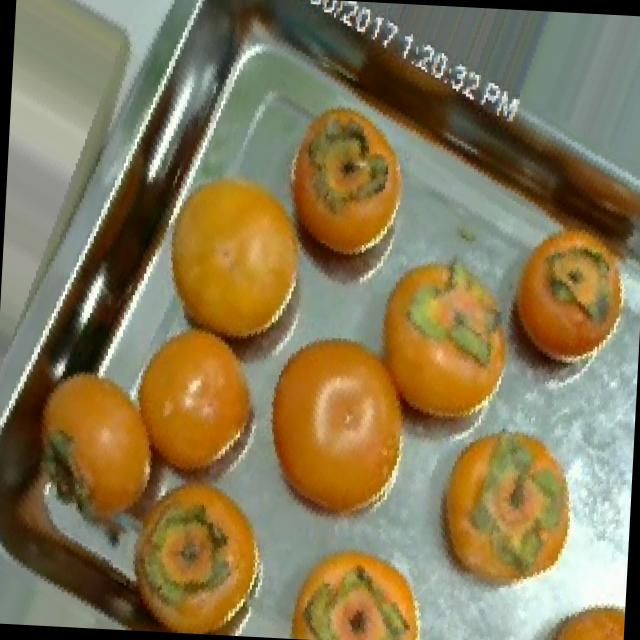Fruit: (238, 312, 434, 548), (149, 145, 333, 380), (419, 403, 594, 619), (108, 302, 278, 518), (263, 76, 427, 288), (491, 210, 640, 391), (275, 531, 432, 640)
